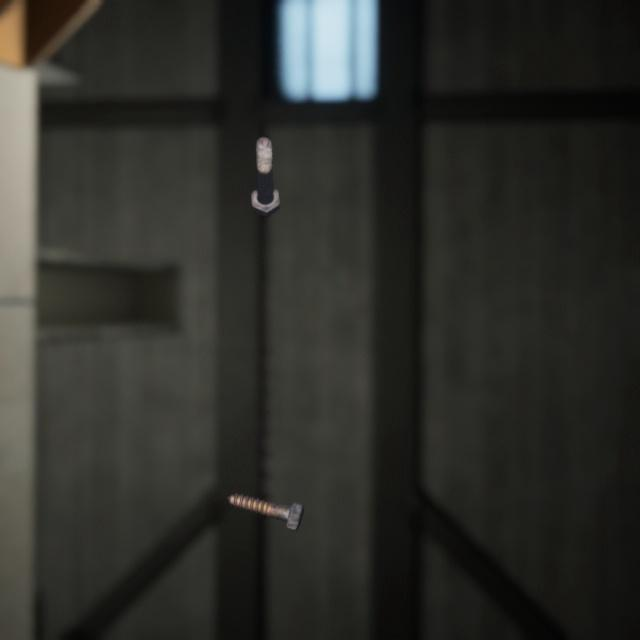bolt: (223, 465, 308, 513), (246, 117, 284, 206)
